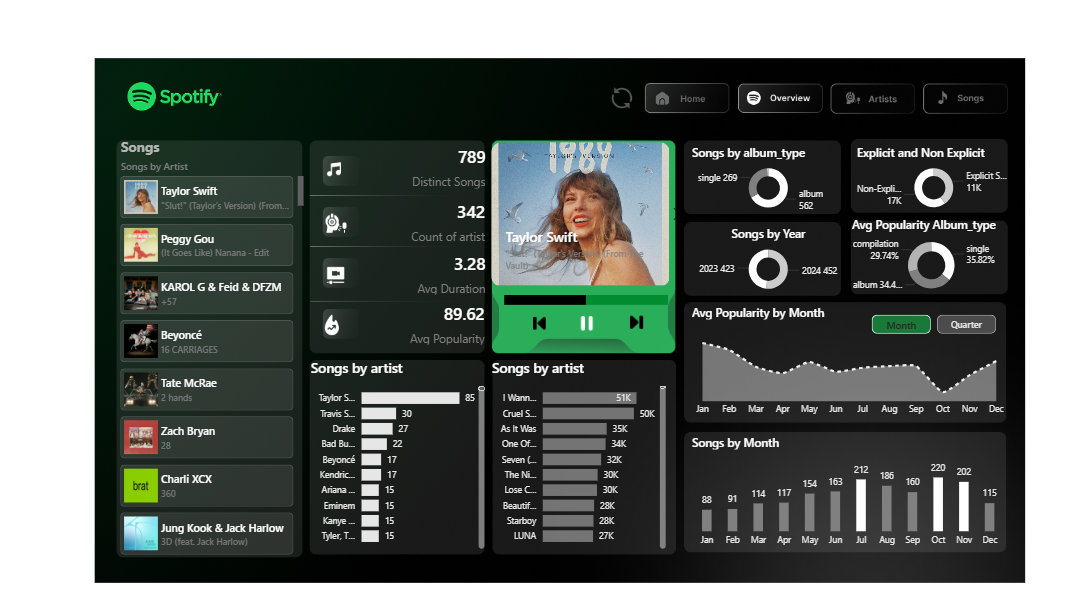

Layout of this report page (visuals, bound fields, positions):
{"tool":"powerbi","page":{"name":"Overview","canvas":[1600,900],"ordinal":1},"visuals":[{"type":"clusteredBarChart","title":" Songs by artist","fields":{"Category":["Top-50-World.artist"],"Y":["_Measures.Distinct Songs"]},"box":[452.8,499.1,248.7,265.9],"z":0},{"type":"clusteredBarChart","title":" Songs by artist","fields":{"Category":["Top-50-World.song"],"Y":["Sum(Top-50-World.popularity)"]},"box":[701.5,499.1,248.7,265.9],"z":1000},{"type":"areaChart","fields":{"Category":["Top-50-World.Month"],"Y":["_Measures.Avg Popularity"]},"box":[976,423.7,442.5,163],"z":2000},{"type":"advancedSlicerVisual","fields":{"Values":["Slicer_Option.Slicer_Option"]},"box":[1223,434,180.1,36],"z":3000},{"type":"donutChart","title":"Songs by album_type","fields":{"Y":["_Measures.Distinct Songs"],"Category":["Top-50-World.album_type"]},"box":[976,204,220,100],"z":4000},{"type":"donutChart","title":"Explicit and Non Explicit","fields":{"Y":["_Measures.Explicit Songs","_Measures.Non-Explicit Songs"]},"box":[1202.4,204.1,221.3,99.5],"z":5000},{"type":"donutChart","title":"Avg Popularity Album_type","fields":{"Category":["Top-50-World.album_type"],"Y":["_Measures.Avg Popularity"]},"box":[1195.5,303.6,228.1,113.2],"z":6000},{"type":"donutChart","title":"Songs by Year","fields":{"Y":["_Measures.Distinct Songs"],"Category":["Top-50-World.Year"]},"box":[976,316,220,100],"z":7000},{"type":"clusteredColumnChart","title":" Songs by Month","fields":{"Category":["Top-50-World.Month"],"Y":["_Measures.Distinct Songs"]},"box":[976,602,440,164],"z":8000},{"type":"cardVisual","title":" Songs by Month","fields":{"Data":["_Measures.Distinct Songs"]},"box":[574,188,140,90],"z":9000},{"type":"cardVisual","fields":{"Data":["Count(Top-50-World.artist)"]},"box":[578,264,136,82],"z":10000},{"type":"cardVisual","fields":{"Data":["_Measures.Avg Duration Minutes"]},"box":[562,336,152,80],"z":11000},{"type":"cardVisual","fields":{"Data":["_Measures.Avg Popularity"]},"box":[546,404,168,80],"z":12000},{"type":"image","box":[473.3,292.2,38.9,43.3],"z":13000},{"type":"image","box":[472.2,434.4,38.9,37.8],"z":14000},{"type":"image","box":[473.3,365.6,37.8,38.9],"z":15000},{"type":"image","box":[467.8,225.6,43.3,28.9],"z":16000},{"type":"advancedSlicerVisual","title":"Songs ","fields":{"Values":["Top-50-World.song"]},"box":[192.2,195.6,261.1,578.9],"z":17000},{"type":"advancedSlicerVisual","title":"Songs ","fields":{"Values":["Top-50-World.song"]},"box":[679.2,195.5,296.7,209.3],"z":18000},{"type":"hundredPercentStackedBarChart","fields":{"Y":["_Measures.Avg Popularity","Avg(Top-50-World.popularity)"]},"box":[718.7,380.8,235,68.6],"z":19000},{"type":"image","box":[750.9,434.8,40,30],"z":20000},{"type":"image","box":[885.1,434.3,39.5,30.9],"z":21000},{"type":"image","box":[817,434.8,40,30],"z":22000},{"type":"shape","box":[694.7,193.8,267.6,303.6],"z":23000},{"type":"actionButton","box":[914.2,120.1,123.5,39.5],"z":24000},{"type":"actionButton","box":[1046.3,118.4,120.1,39.5],"z":25000},{"type":"actionButton","box":[1166.8,118.4,124,40],"z":26000},{"type":"actionButton","box":[1289.9,121.8,133.8,36],"z":27000},{"type":"image","box":[828.5,121.8,113.2,39.5],"z":27001}]}

Visuals, with their boxes on the page's 1600x900 design canvas (x1, y1, x2, y2). These are canvas units, not pixel positions in the 1080x613 screenshot, which may show the page scaled, cropped or inside an application window:
" Songs by artist" clusteredBarChart: (453, 499, 702, 765)
" Songs by artist" clusteredBarChart: (702, 499, 950, 765)
areaChart - Top-50-World.Month x _Measures.Avg Popularity: (976, 424, 1418, 587)
advancedSlicerVisual - Slicer_Option.Slicer_Option: (1223, 434, 1403, 470)
"Songs by album_type" donutChart: (976, 204, 1196, 304)
"Explicit and Non Explicit" donutChart: (1202, 204, 1424, 304)
"Avg Popularity Album_type" donutChart: (1196, 304, 1424, 417)
"Songs by Year" donutChart: (976, 316, 1196, 416)
" Songs by Month" clusteredColumnChart: (976, 602, 1416, 766)
" Songs by Month" cardVisual: (574, 188, 714, 278)
cardVisual - Count(Top-50-World.artist): (578, 264, 714, 346)
cardVisual - _Measures.Avg Duration Minutes: (562, 336, 714, 416)
cardVisual - _Measures.Avg Popularity: (546, 404, 714, 484)
image: (473, 292, 512, 336)
image: (472, 434, 511, 472)
image: (473, 366, 511, 404)
image: (468, 226, 511, 254)
"Songs " advancedSlicerVisual: (192, 196, 453, 774)
"Songs " advancedSlicerVisual: (679, 196, 976, 405)
hundredPercentStackedBarChart - _Measures.Avg Popularity x Avg(Top-50-World.popularity): (719, 381, 954, 449)
image: (751, 435, 791, 465)
image: (885, 434, 925, 465)
image: (817, 435, 857, 465)
shape: (695, 194, 962, 497)
actionButton: (914, 120, 1038, 160)
actionButton: (1046, 118, 1166, 158)
actionButton: (1167, 118, 1291, 158)
actionButton: (1290, 122, 1424, 158)
image: (828, 122, 942, 161)
